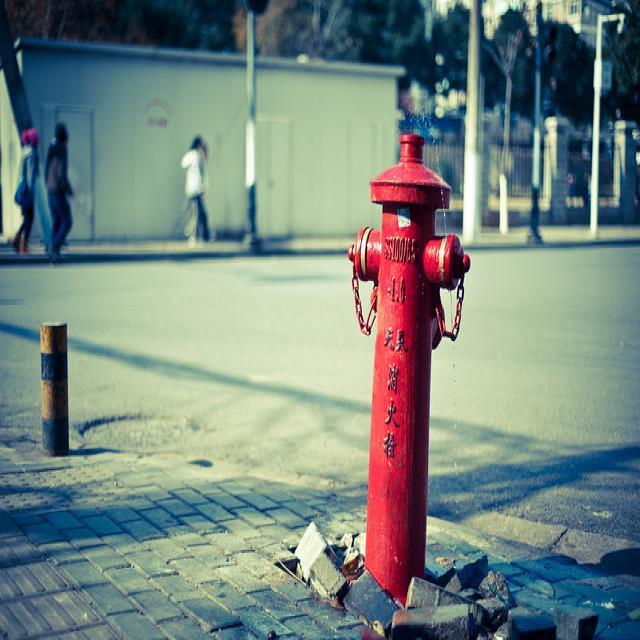fire_hydrant: (346, 135, 471, 602)
